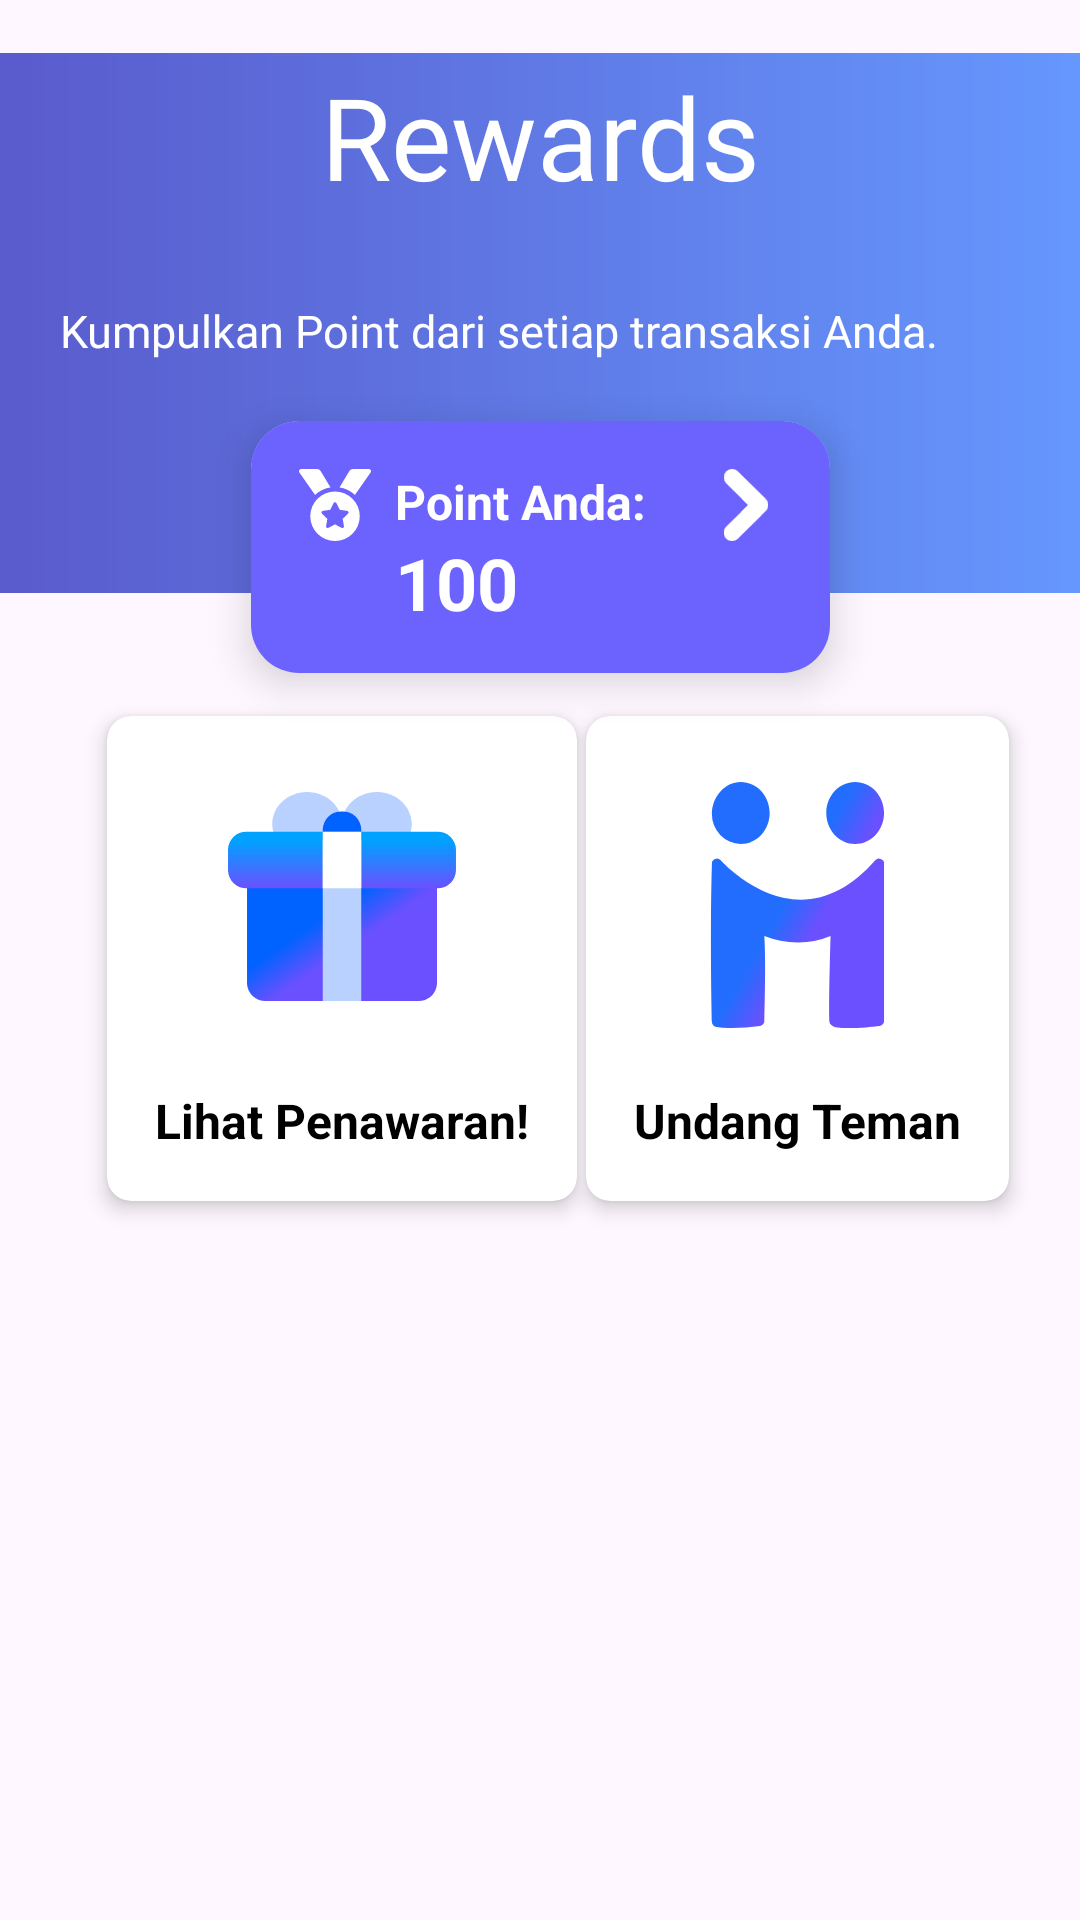

Where icons sit on this 1080px×1920px app screen, as (x1,y1,x2,y2):
arrow: (724,469,768,541)
gift: (228,792,456,1001)
medal: (299,469,371,541)
